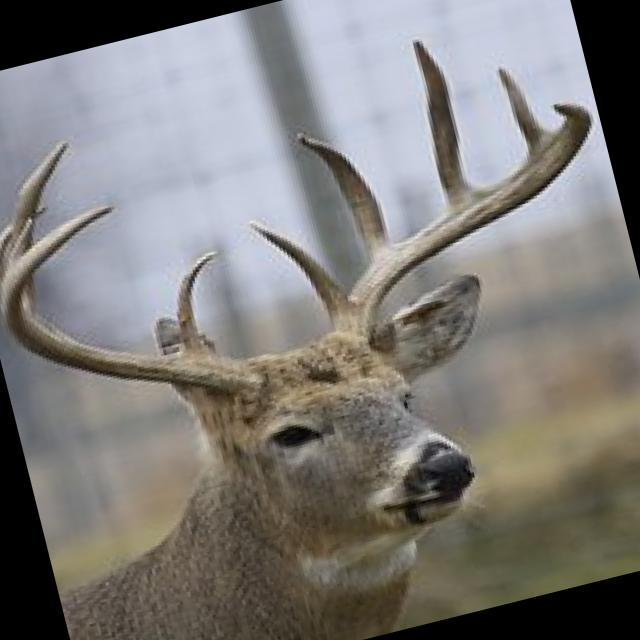L-G1: (245, 217, 348, 324)
L-G2: (296, 132, 395, 266)
L-G3: (411, 37, 481, 212)
L-G4: (496, 64, 553, 161)
R-F: (0, 202, 263, 395)
R-G1: (171, 250, 222, 356)
